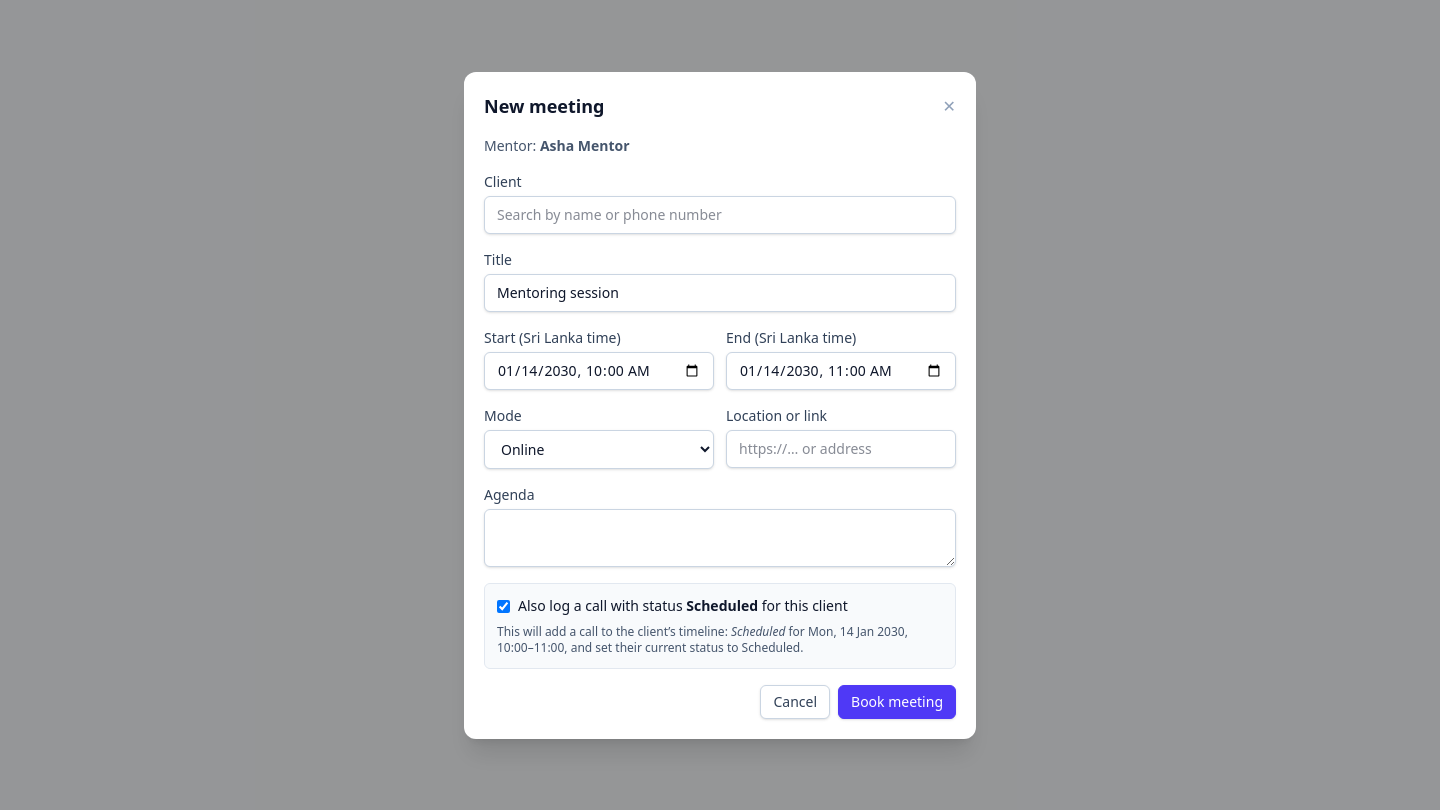
Test case: New meeting modal › validates the times: end before start
The width and height of the screenshot is (1440, 810).
In the field labelled "Client": (720, 214) [484,196,956,234], type "nimal"
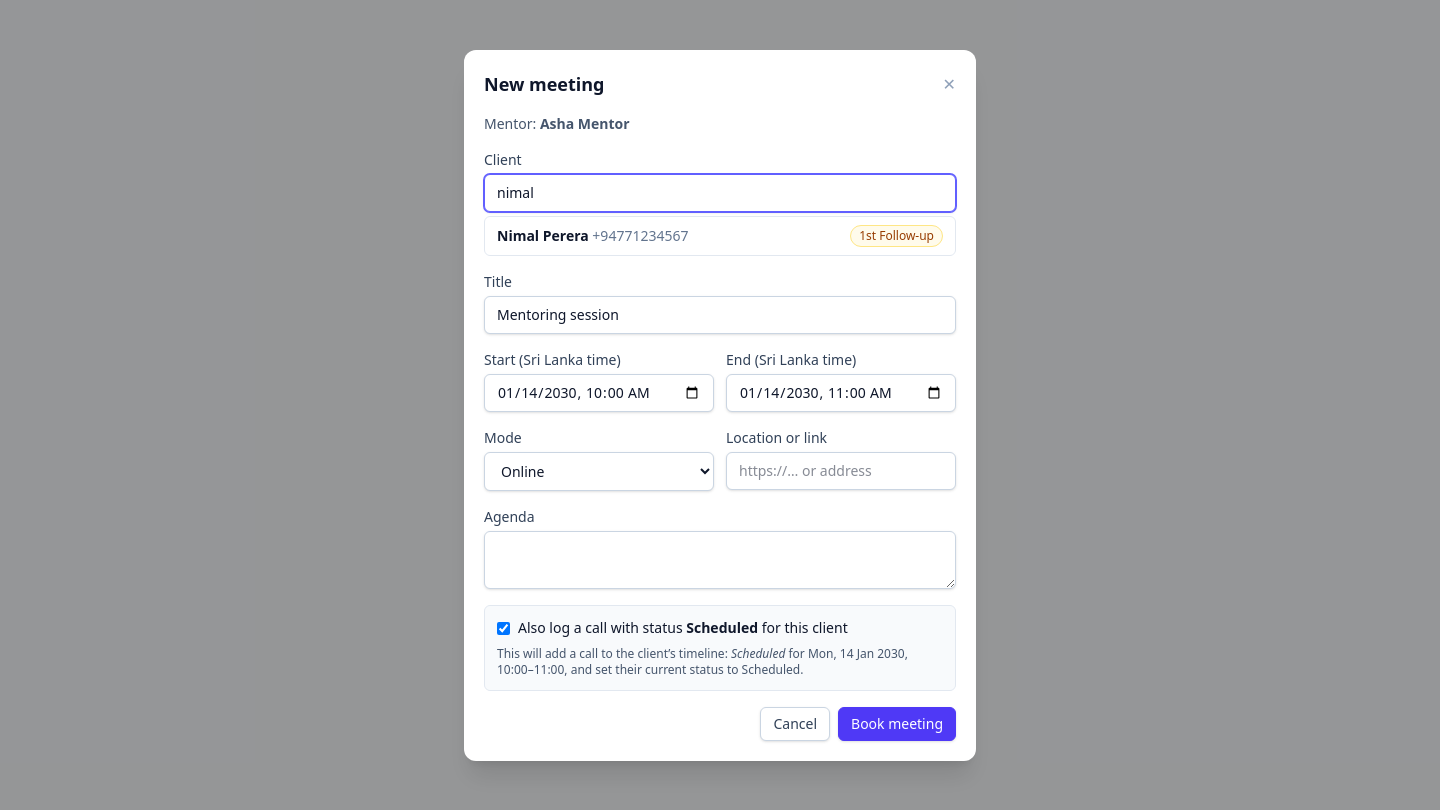
Click the option "Nimal Perera +94771234567 1st Follow-up": (543, 235) [485,216,955,254]
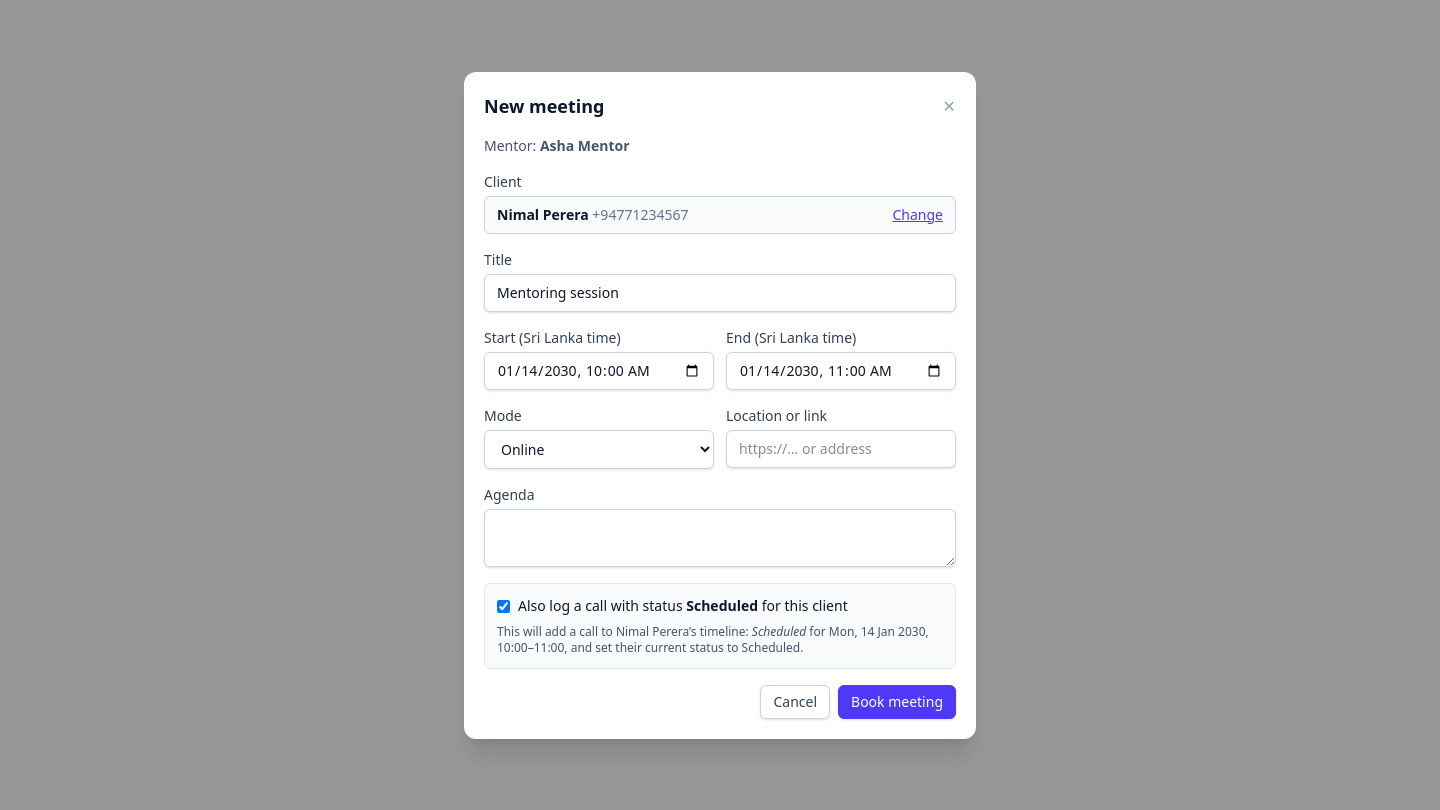
Replace the text in the field labelled "End (Sri Lanka time)" with "2030-01-14T09:00": (841, 370) [726,352,956,390]
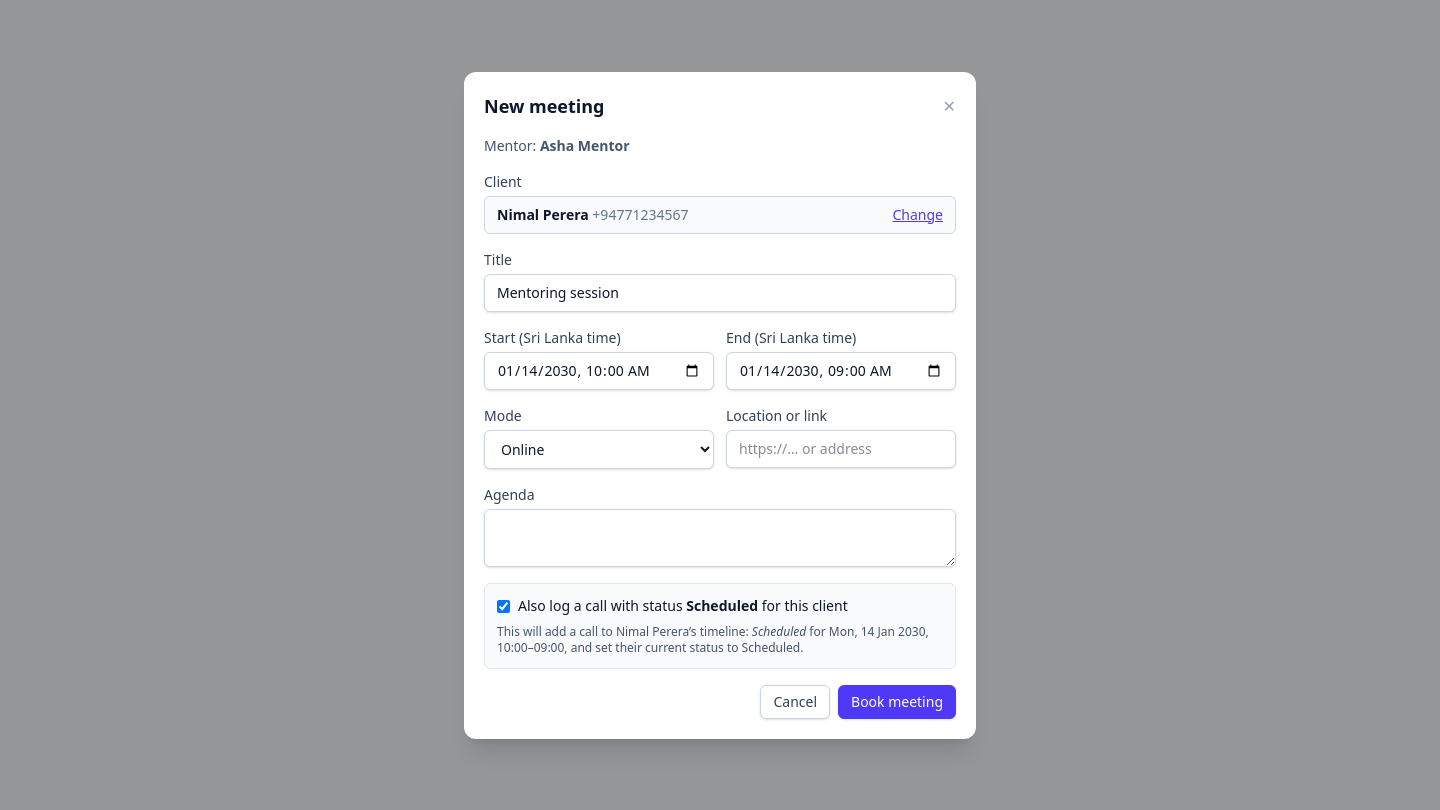
Click the button "Book meeting": (897, 702) [838,684,956,718]
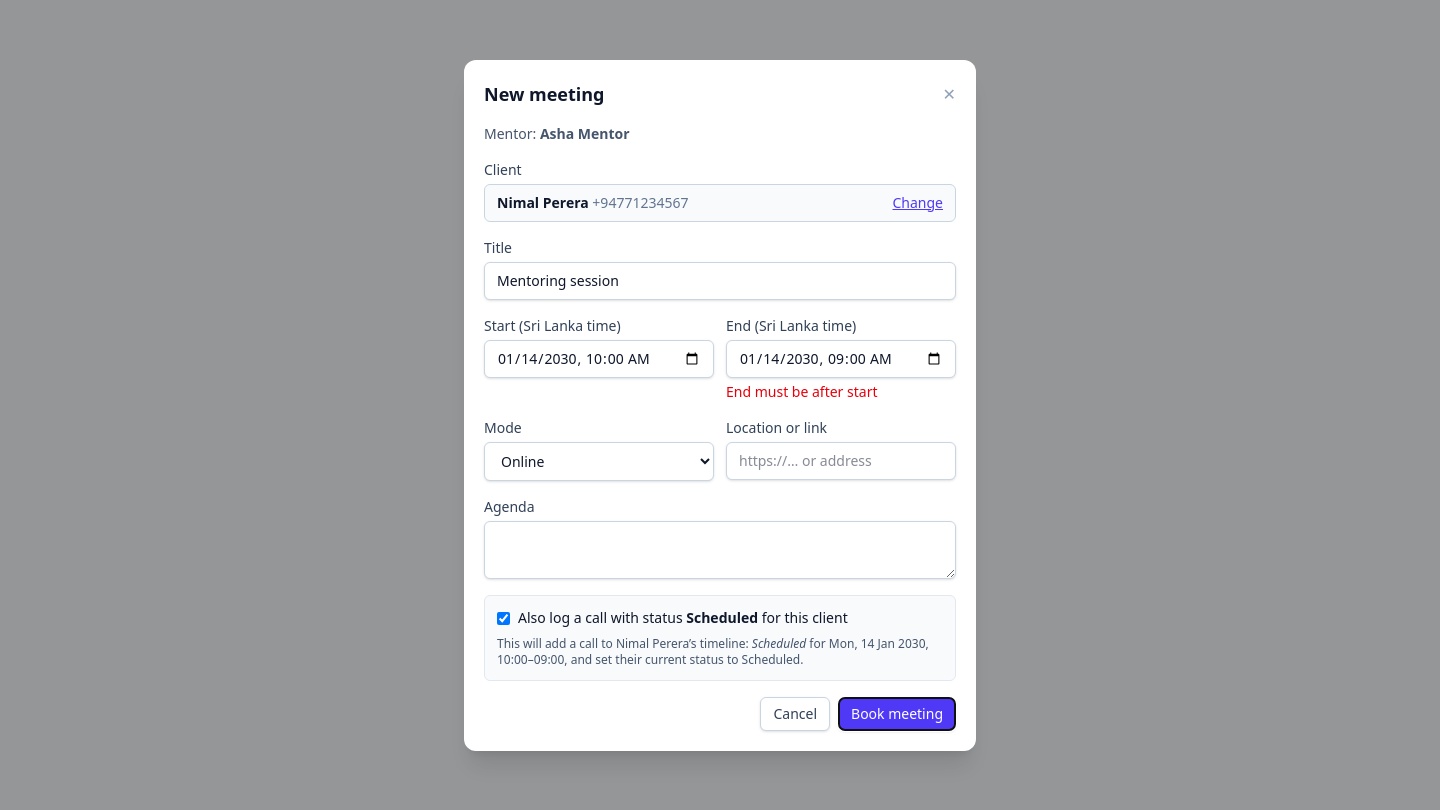
Expected: the text "End must be after start" is shown, [726,382,878,400]
